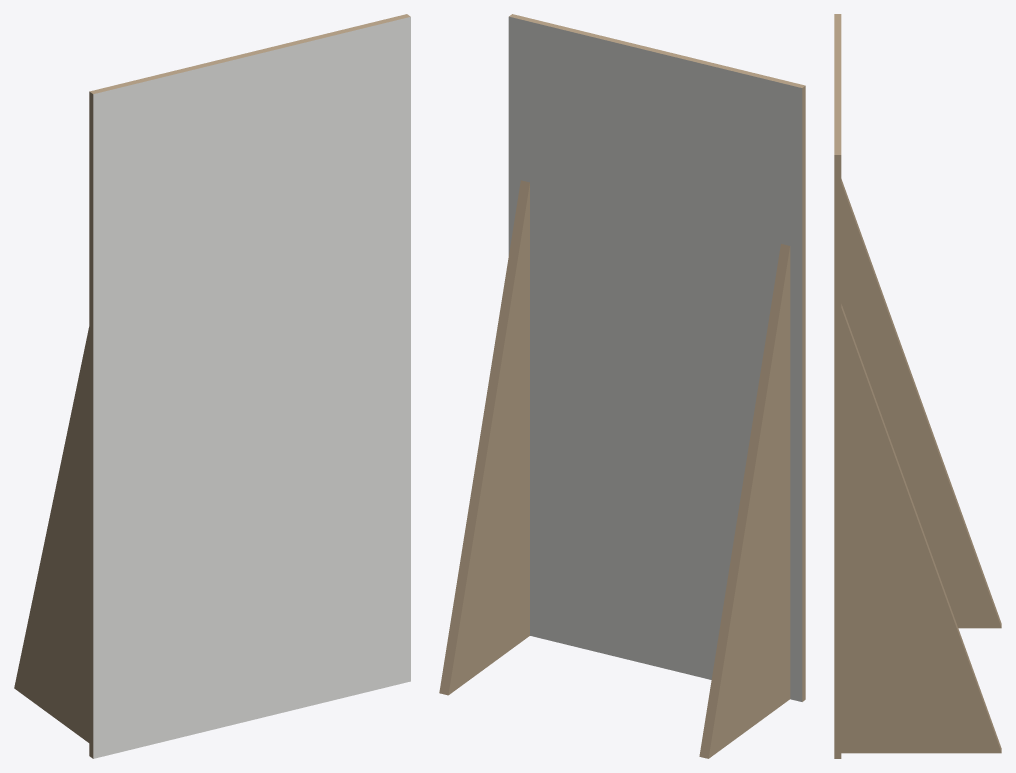
The model's file is prop-flat.glb.
The picture shows the model from 3 angles, left to right: view 1: azimuth 30°, elevation 25°; view 2: azimuth 150°, elevation 25°; view 3: azimuth 270°, elevation 25°; orthographic projection. The views are drawn at different scales.
Parts seen in each view (by area): view 1: Flat; view 2: Flat; view 3: Flat.
Boxes of the visible parts, x1,y1,x2,y2 form: Flat: (14,14,410,758); Flat: (439,14,805,758); Flat: (834,14,1001,758).
Size of the model in its own units: 1.22 by 2.44 by 0.6127.
